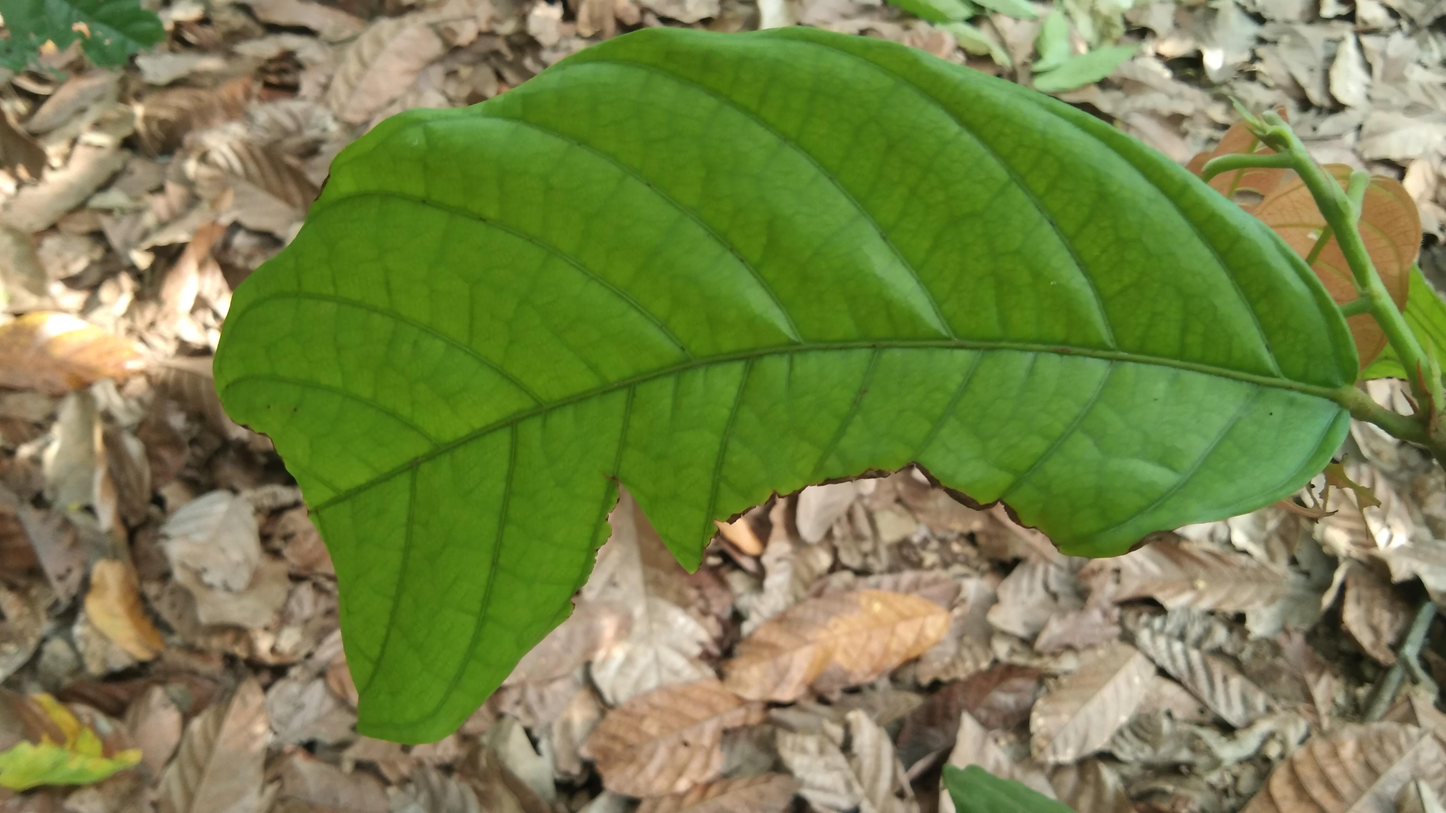deficiencia_potasio: (214, 17, 1380, 760)
